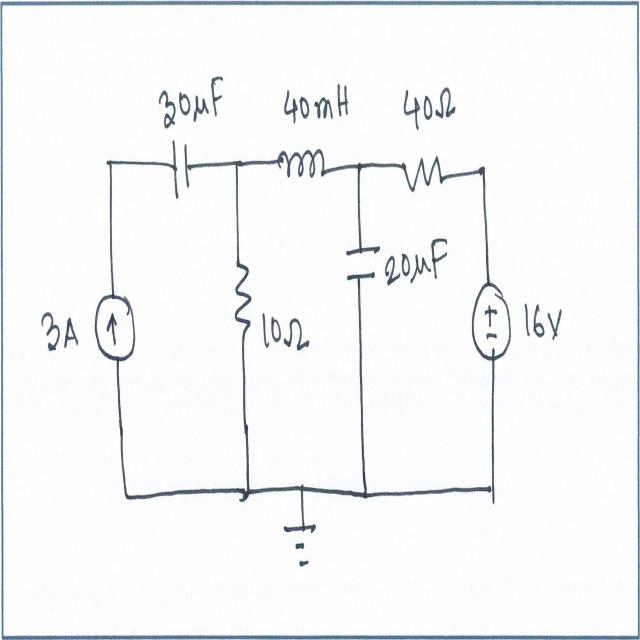capacitor: (340, 242, 388, 293), (172, 123, 192, 207)
current_source: (92, 290, 140, 373)
ground: (282, 520, 320, 580)
inductor: (272, 140, 327, 192)
resistor: (398, 150, 444, 194), (232, 251, 256, 335)
voltage_source: (466, 266, 516, 370)
